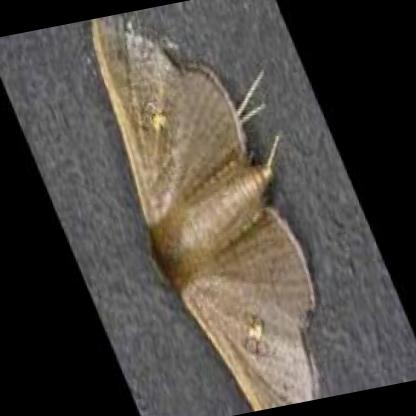Leaf Webber: (84, 15, 318, 409)
